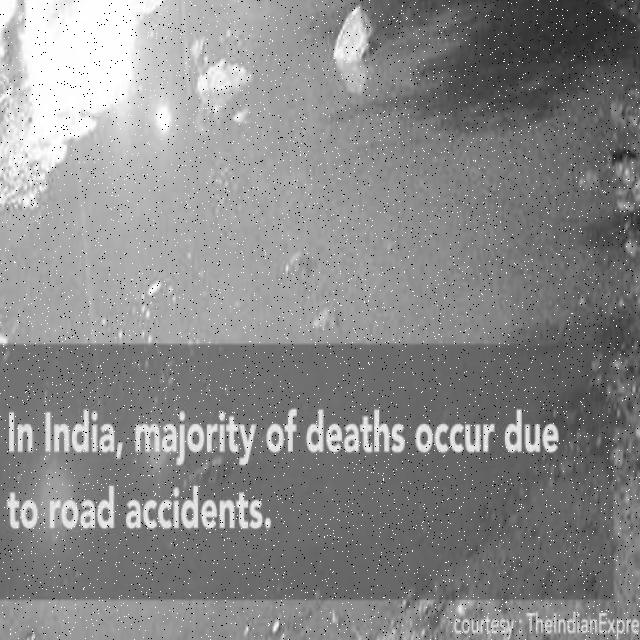pothole: (0, 0, 640, 343)
